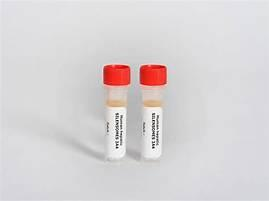Syringe: (137, 59, 170, 166), (100, 60, 132, 169)
